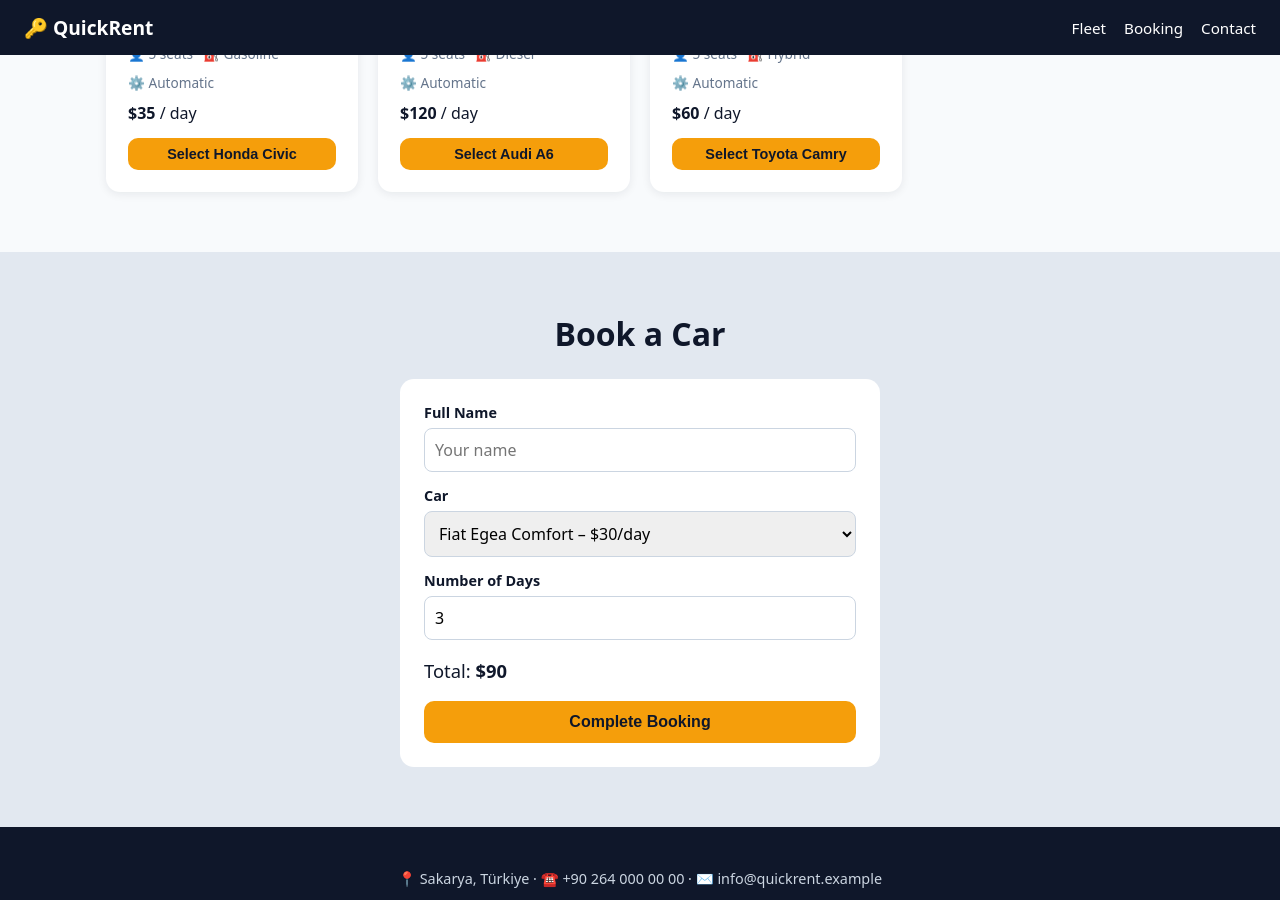
Test: Car Rental Site › shows a booking confirmation
(page scrolled)
Type "Alice" into the field labelled "Full Name" at (640, 450), box [424,428,856,472]
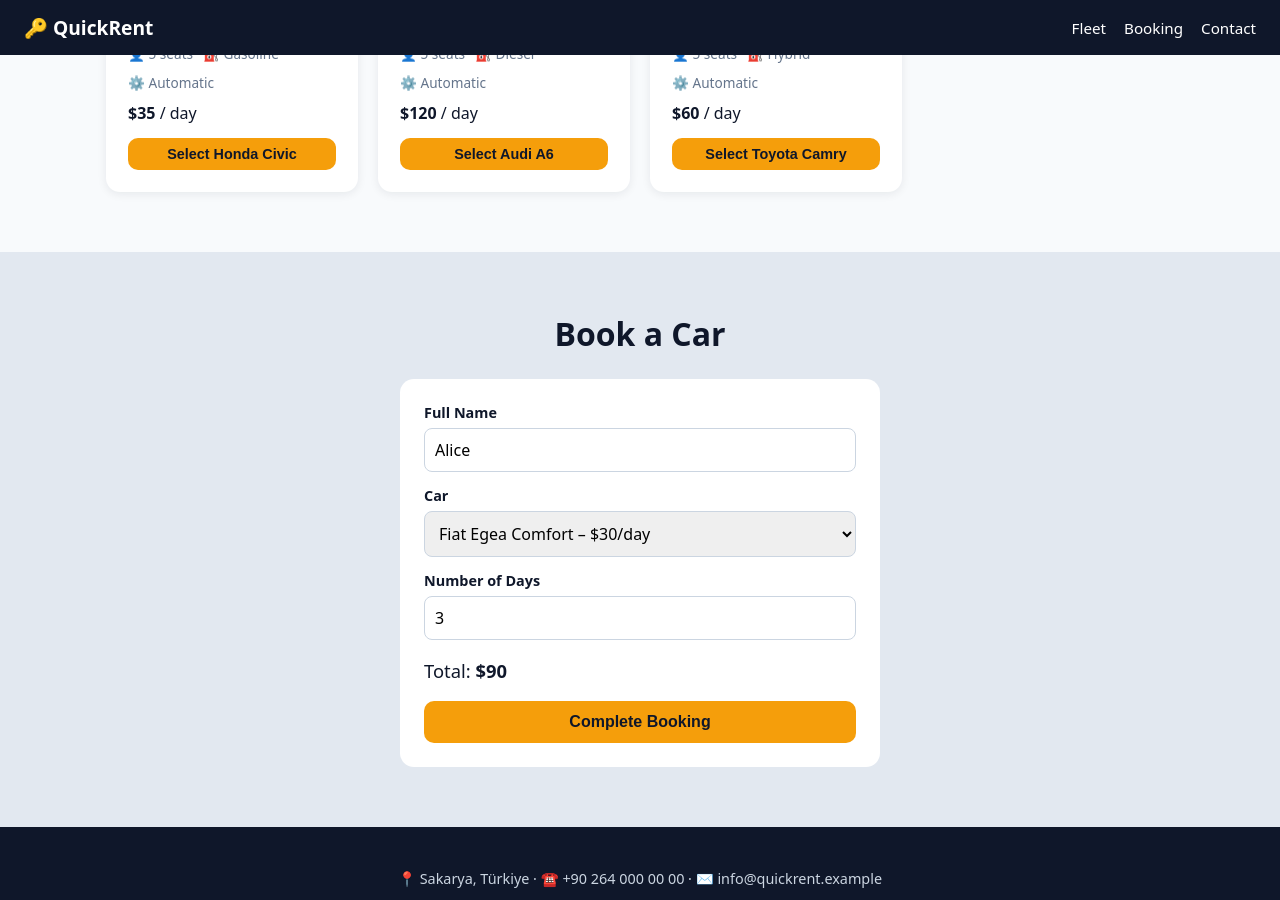
Click the button "Complete Booking" at (640, 722), box [424,701,856,743]
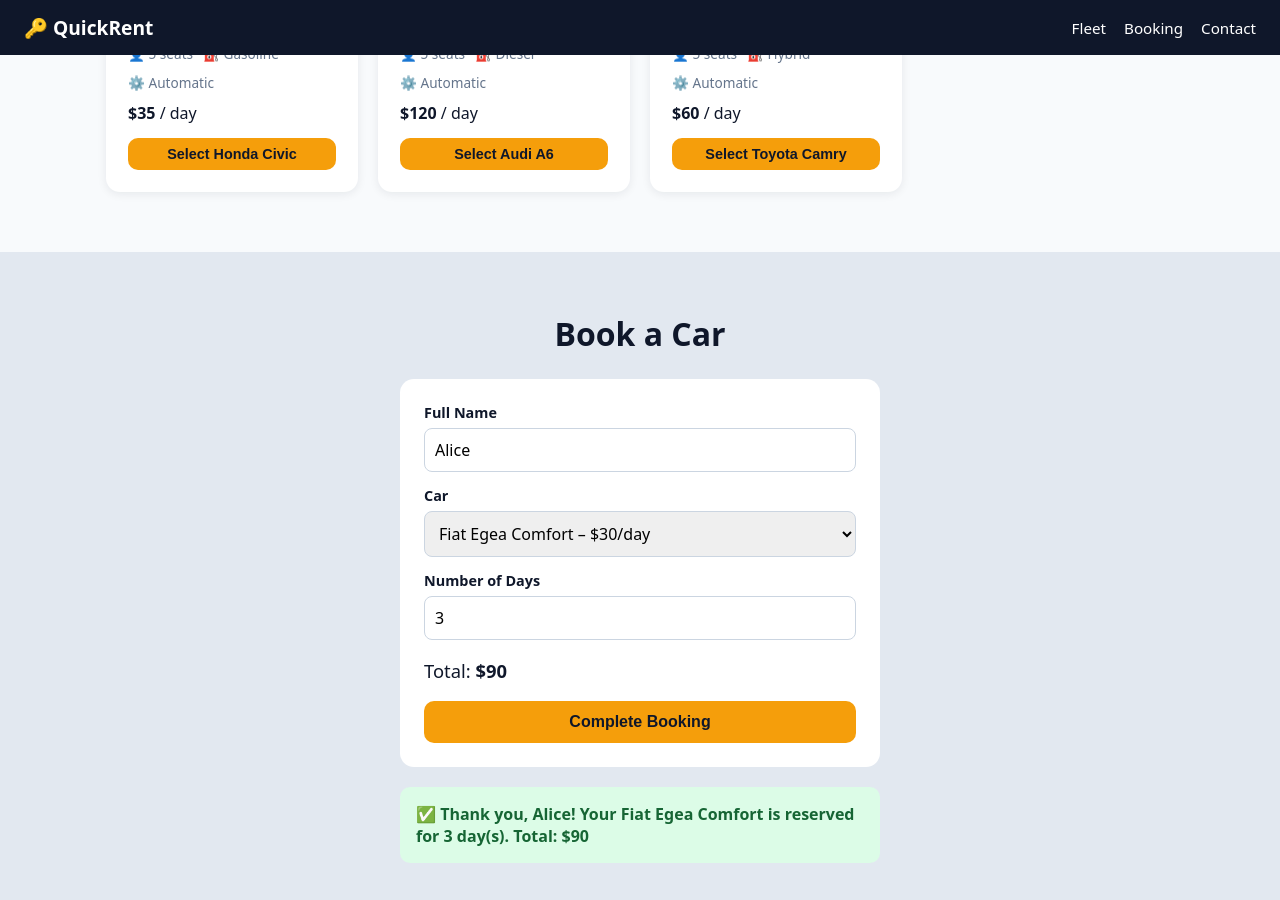
Now the message shows "Thank you, Alice!", box [400,787,880,863]
